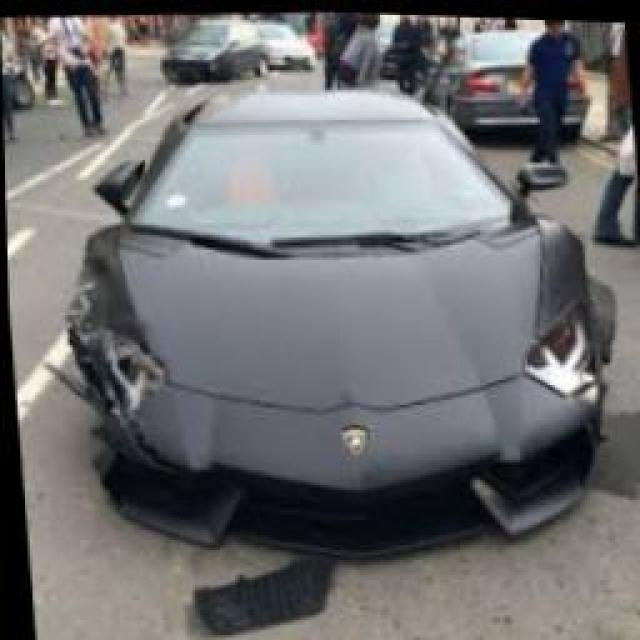Bumper: (80, 385, 597, 558)
Fender: (46, 224, 167, 399)
Light: (519, 300, 589, 392), (96, 325, 160, 421)
